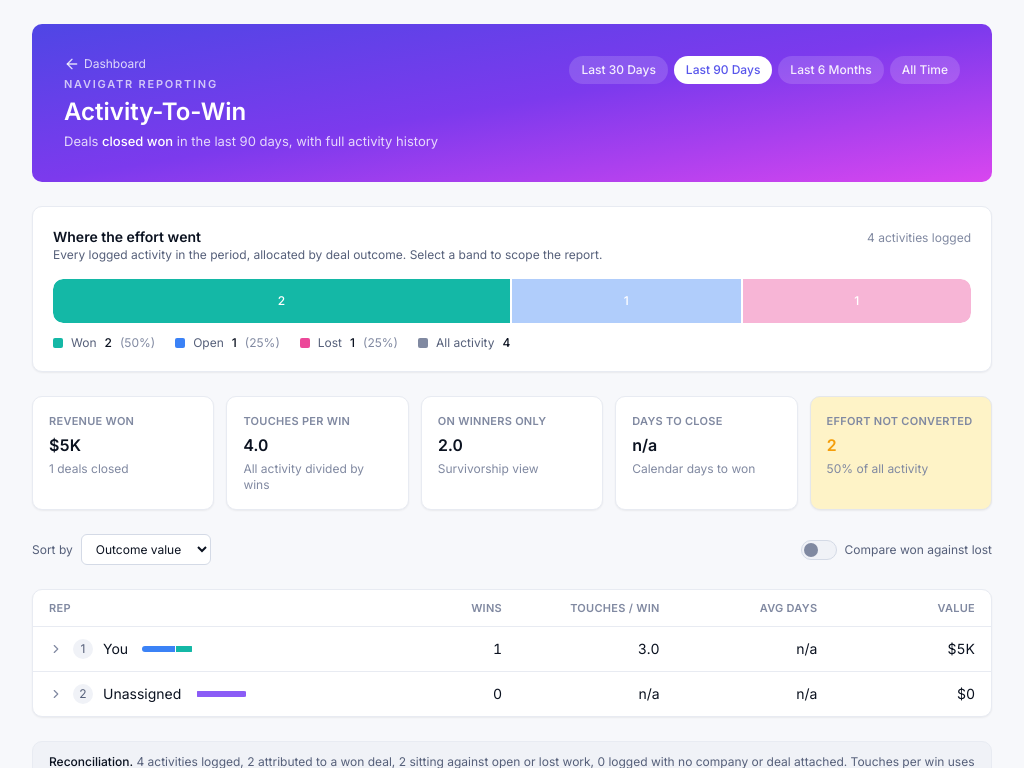
ActivityToWinReport › scopes to All by clicking the active band segment, then to Open
Click the button titled "Won:".
click(282, 301)  # box [53,279,510,323]
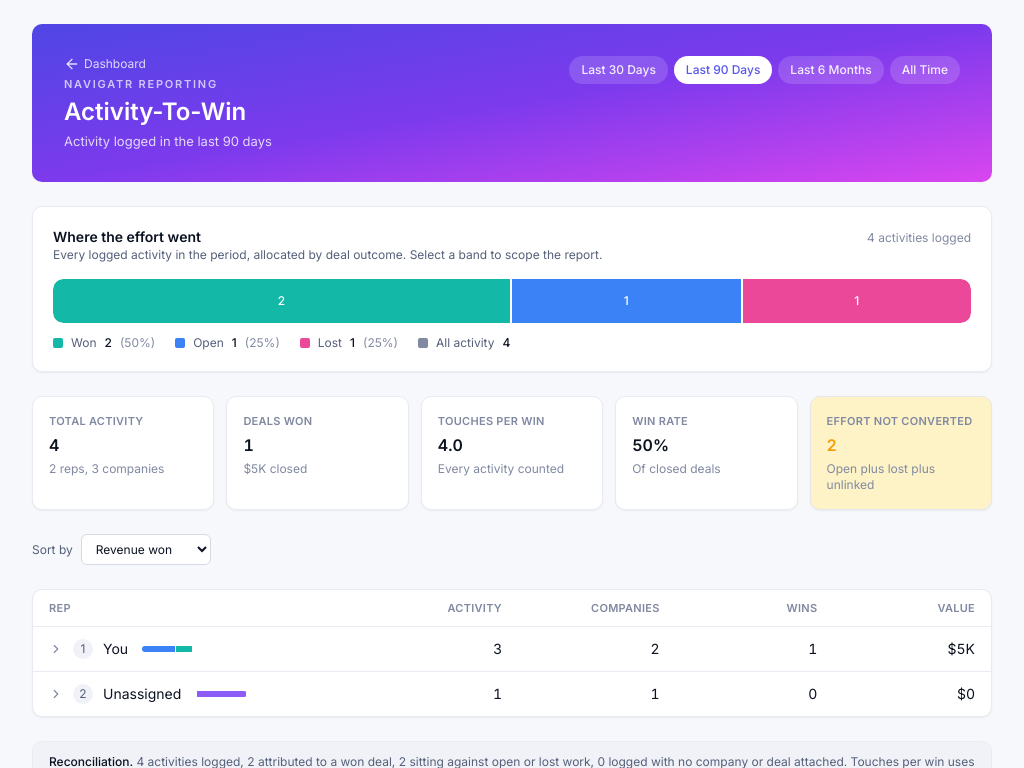
Result: the text "Total activity" is shown at [49,414,144,428]
# From All, clicking the Open segment scopes to Open.
Click the 1st button titled "Open:".
click(626, 301)  # box [512,279,740,323]
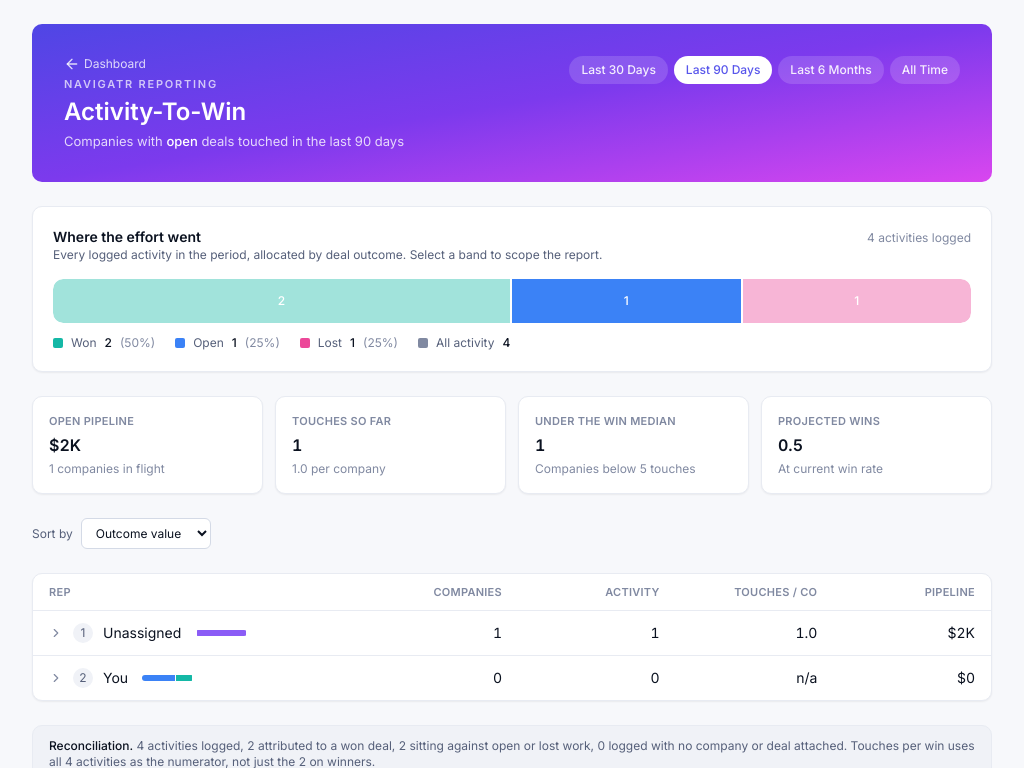
Result: the text "Open pipeline" is shown at [49,414,134,428]
